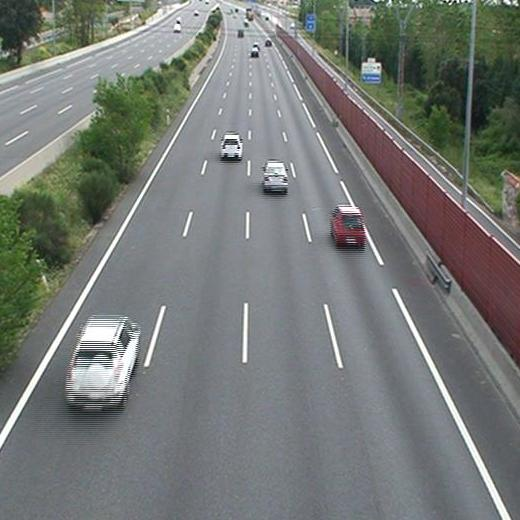car: (66, 316, 138, 403), (332, 207, 365, 245), (263, 163, 289, 191), (221, 134, 242, 158), (250, 48, 258, 57)
